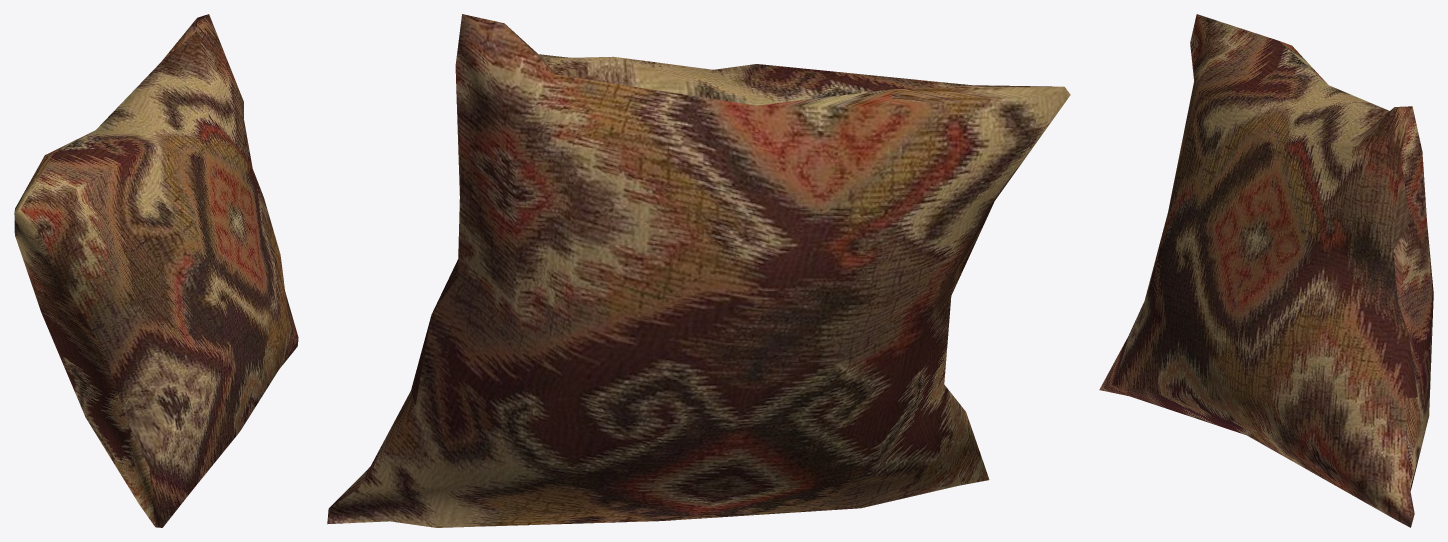
Rendered from cushion.020.fbx.
3 views of the same model, side by side, from view 1: azimuth 30°, elevation 25°; view 2: azimuth 150°, elevation 25°; view 3: azimuth 270°, elevation 25° (orthographic). The views are drawn at different scales.
Parts seen in each view (by area): view 1: cushion.020; view 2: cushion.020; view 3: cushion.020.
Part boxes in pixels (bbox=[...]): cushion.020: bbox=[14, 14, 298, 527]; cushion.020: bbox=[327, 14, 1070, 527]; cushion.020: bbox=[1099, 14, 1433, 527].
Bounding box in the file's own units: 37.81 × 34 × 27.09.
Materials: 1 (1 with a texture image).
